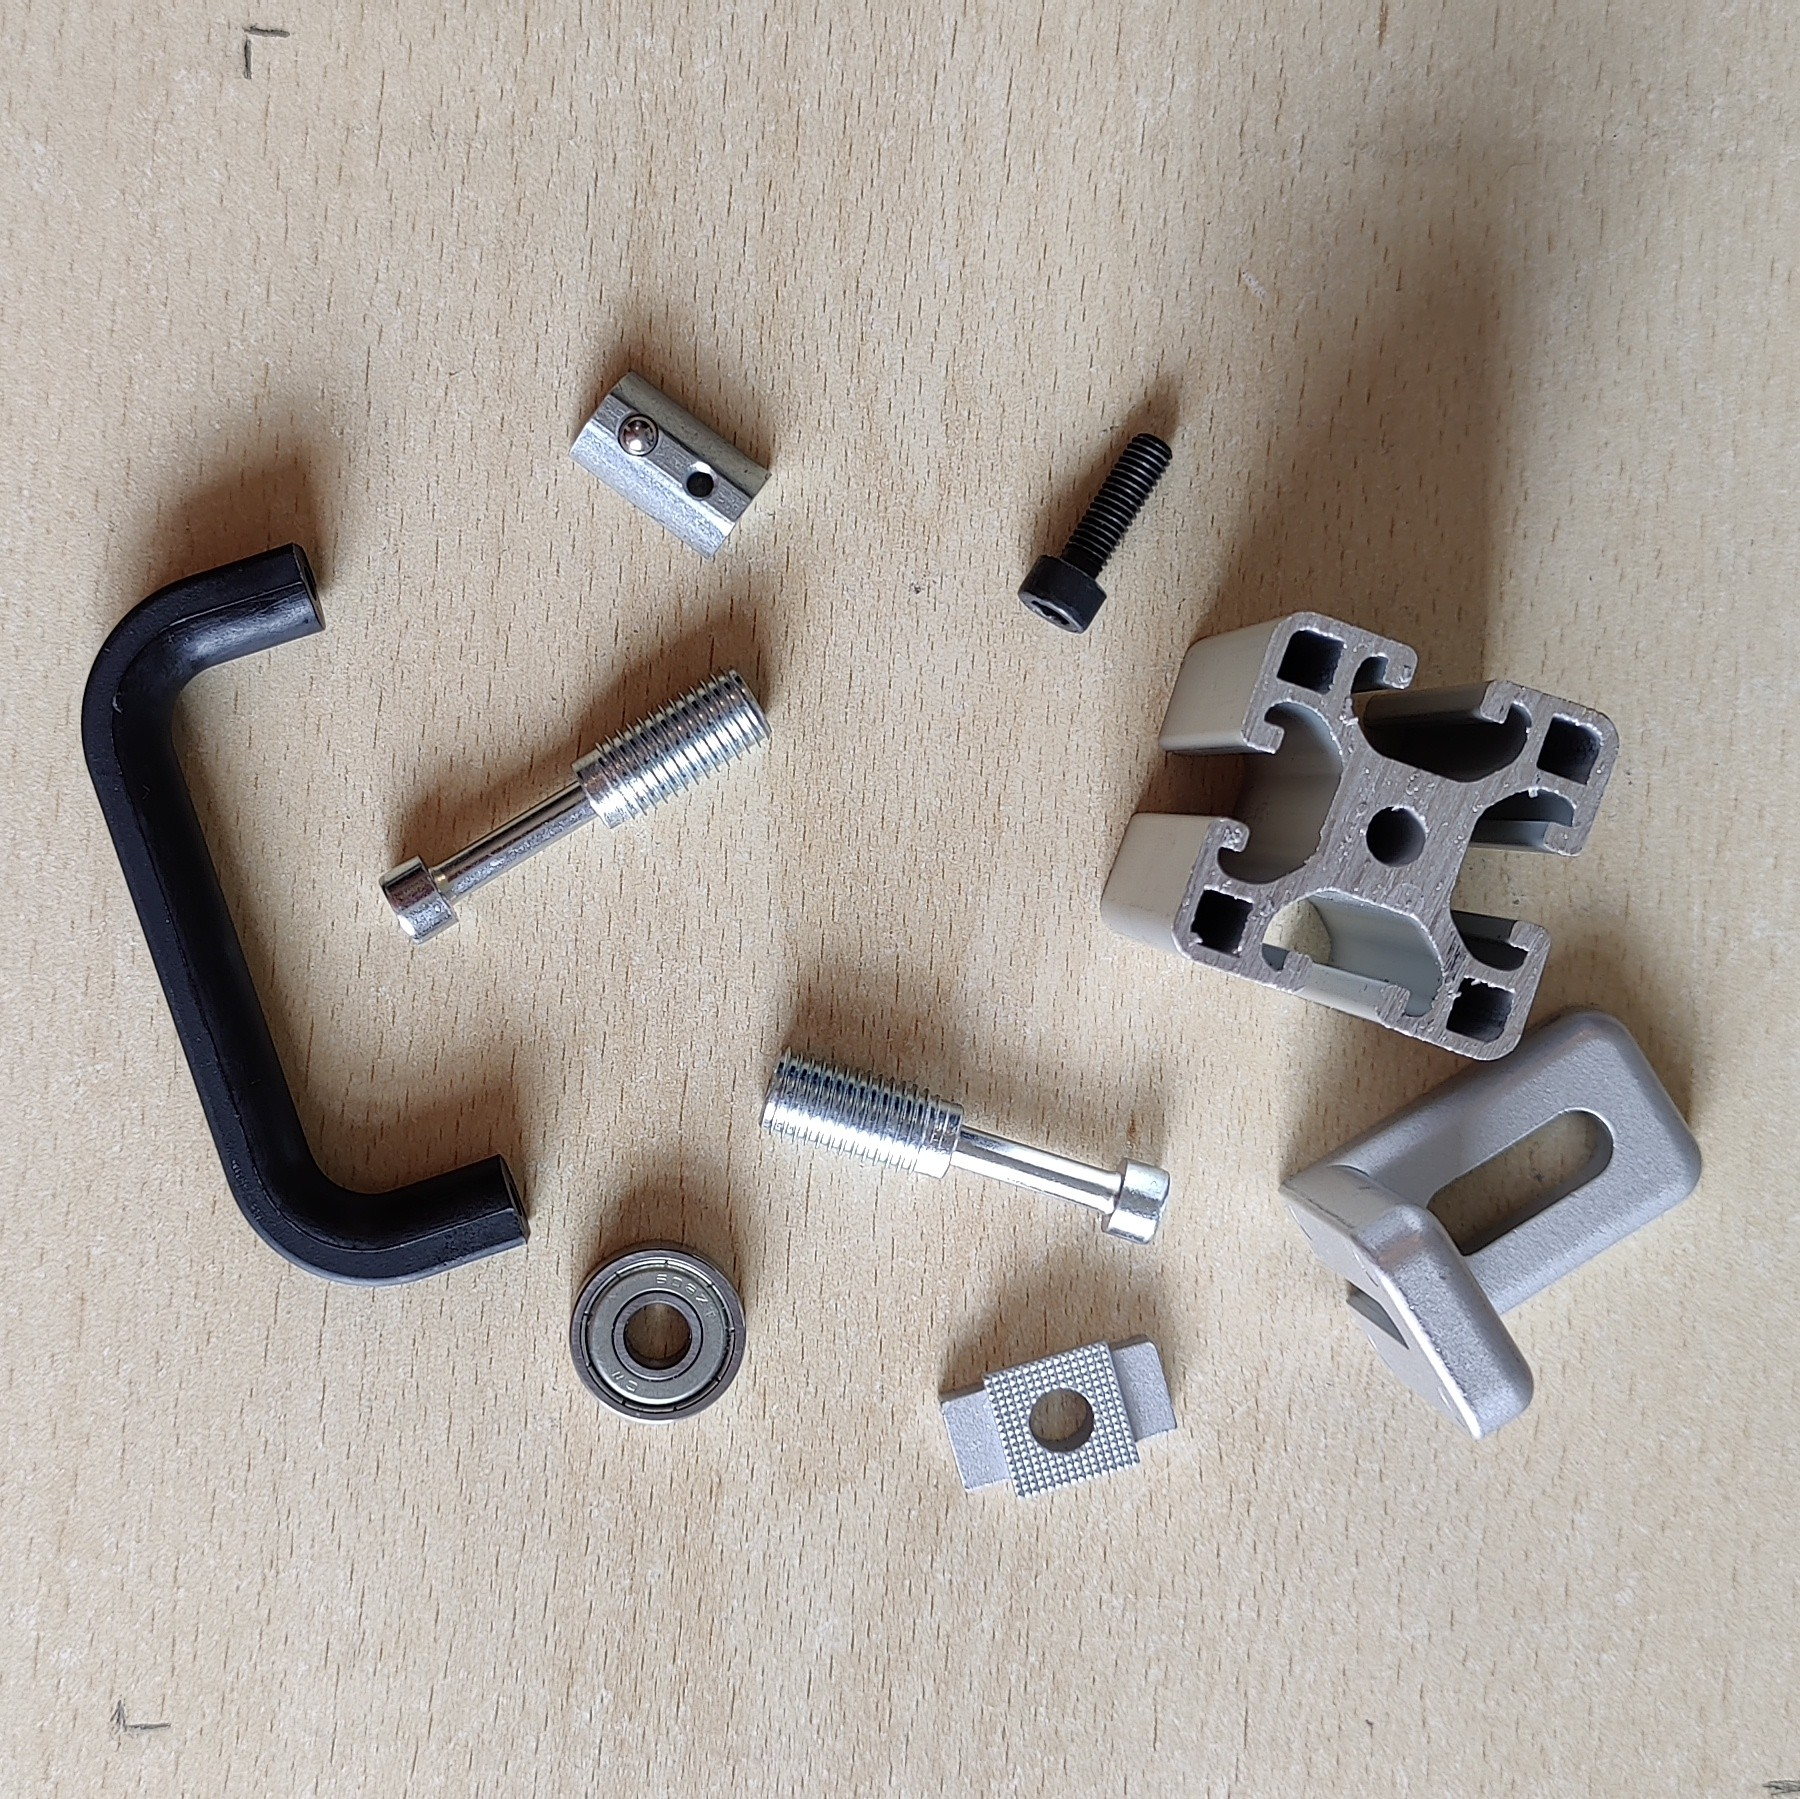Aluminium Extension: (1097, 608, 1624, 1064)
Ball Bearing: (567, 1237, 748, 1427)
Multiwinkel: (1275, 1003, 1704, 1442)
Pull Handle: (79, 537, 532, 1292)
Shoulder Socket Head Cap Screw: (377, 666, 779, 947), (754, 1044, 1174, 1249)
Socket Head Cap Screw: (1014, 430, 1177, 634)
T Nut Square: (935, 1329, 1179, 1501)
T Spring Nut: (565, 367, 776, 560)
